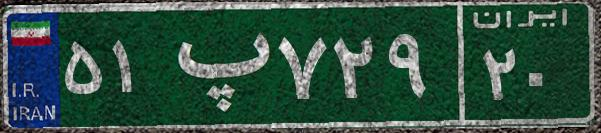0: (525, 38, 570, 115)
1: (110, 28, 158, 105)
2: (330, 28, 385, 110), (475, 38, 525, 113)
5: (57, 26, 110, 107)
7: (273, 28, 330, 110)
9: (385, 28, 445, 110)
پ: (158, 15, 273, 115)
